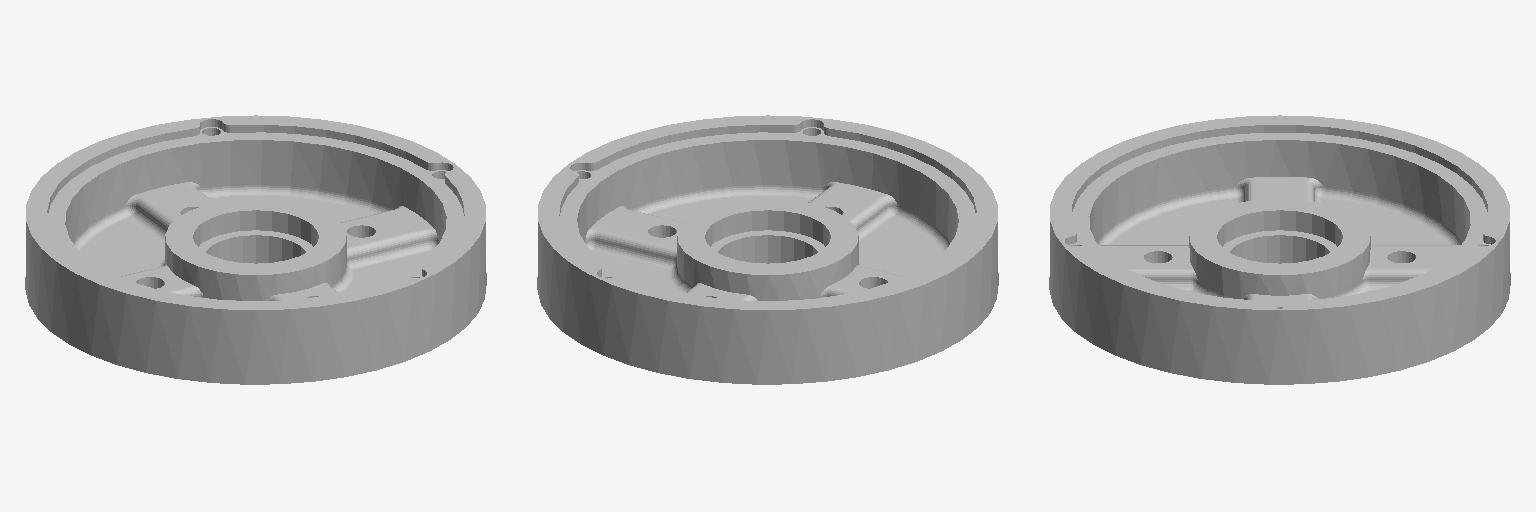
Rendered from Motor Mount v10.obj.
3 renders of one model, left to right at view 1: azimuth 30°, elevation 25°; view 2: azimuth 150°, elevation 25°; view 3: azimuth 270°, elevation 25°, orthographic.
Parts seen in each view (by area): view 1: Body1; view 2: Body1; view 3: Body1.
Part boxes in pixels (left/top/right/bottom): Body1: left=25, top=115, right=486, bottom=384; Body1: left=537, top=115, right=998, bottom=384; Body1: left=1049, top=115, right=1510, bottom=384.
Size of the model in its own units: 17.4 by 3.59 by 17.39.